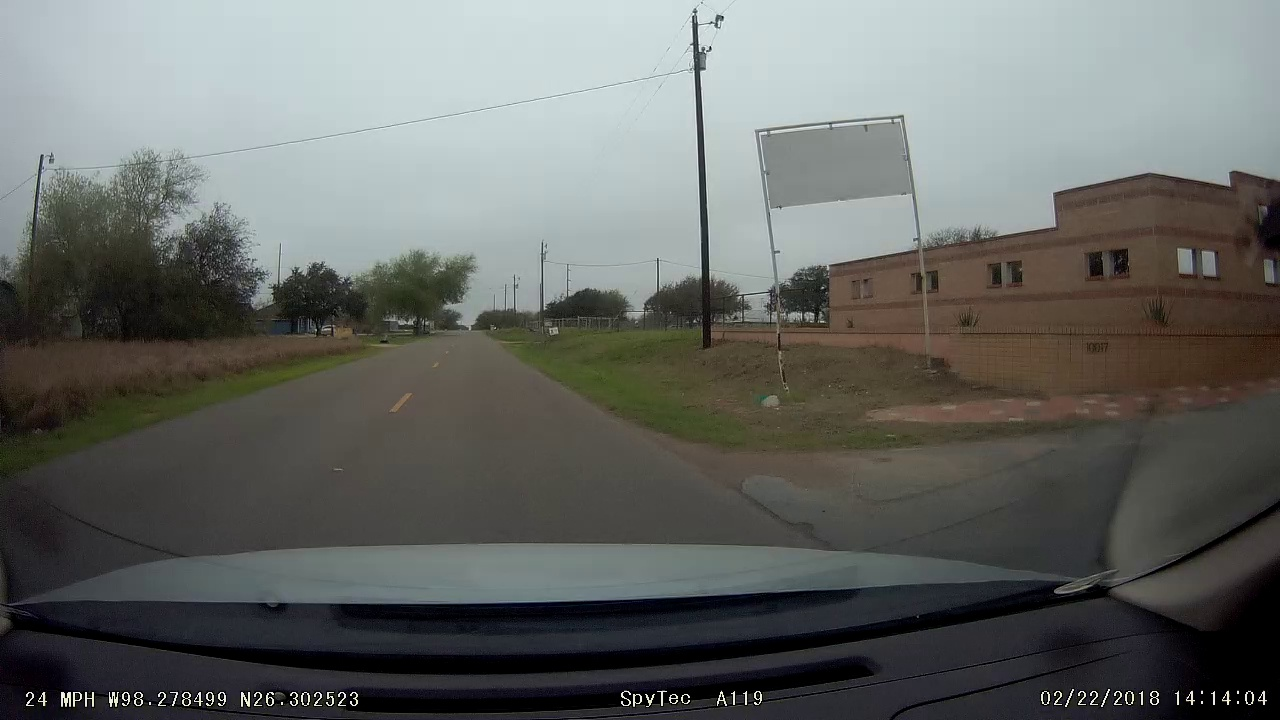crack: (729, 478, 838, 543)
